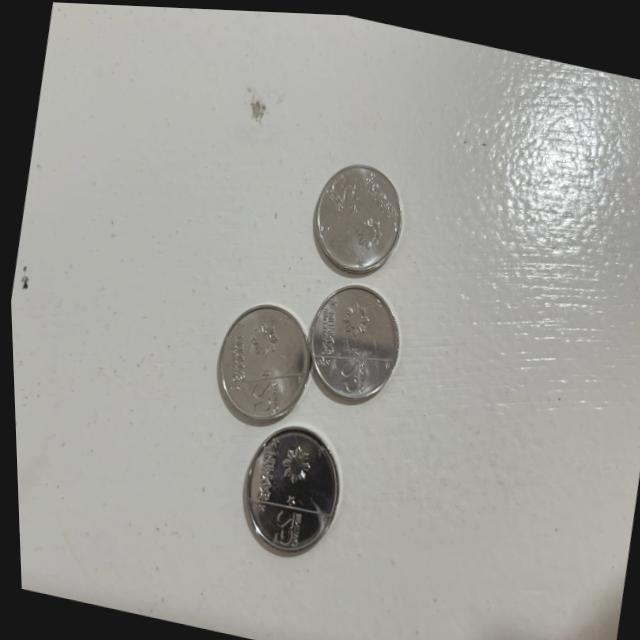25Cent_New_Front: (324, 345, 370, 399), (239, 367, 285, 420), (258, 500, 302, 547), (321, 164, 355, 213)
